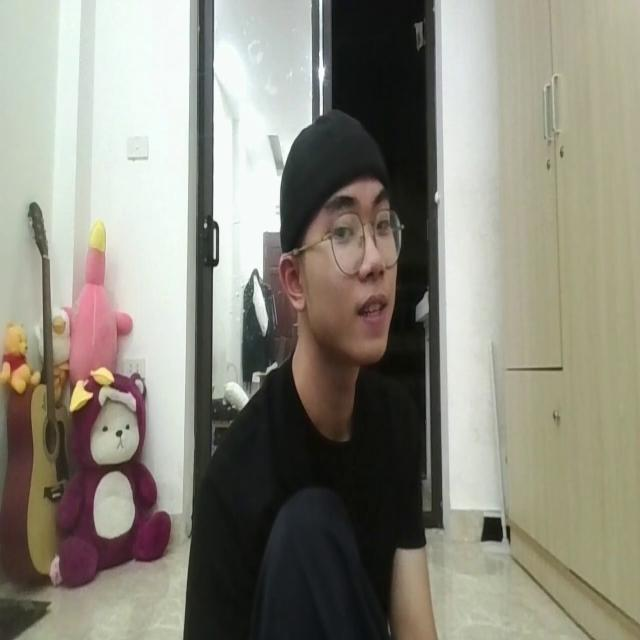student: (191, 90, 428, 640)
